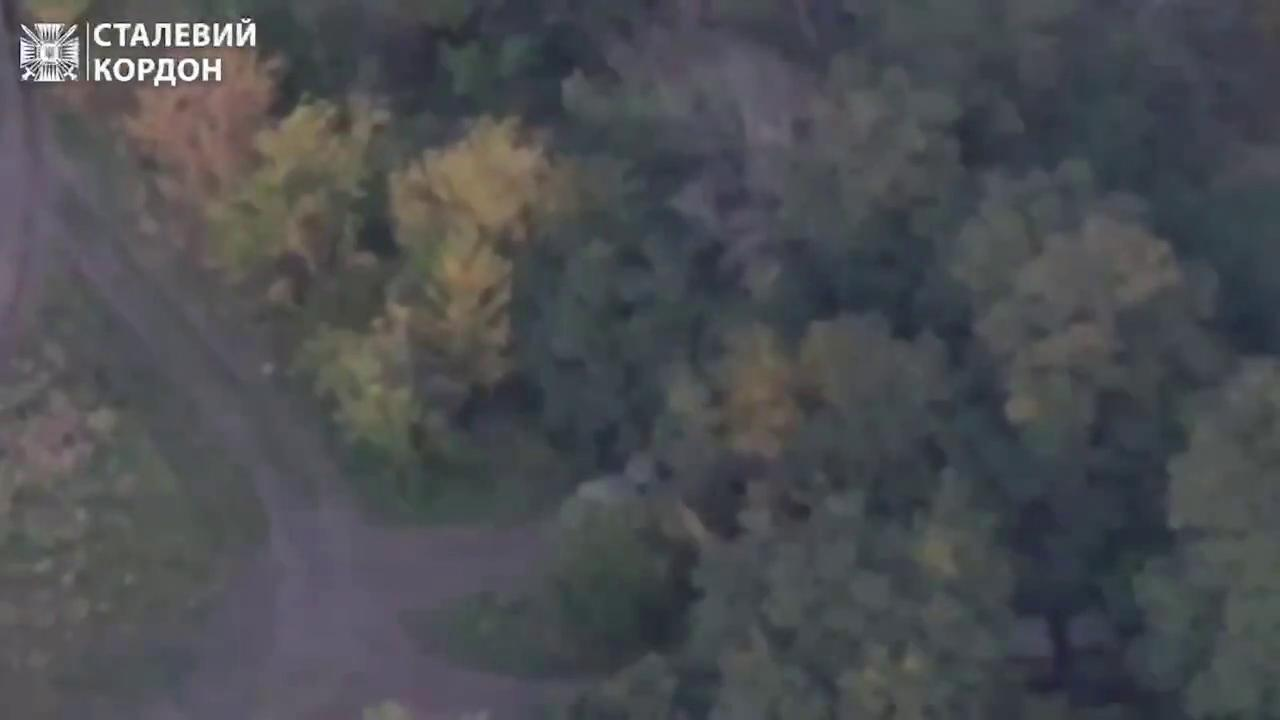tank: (570, 444, 676, 535)
